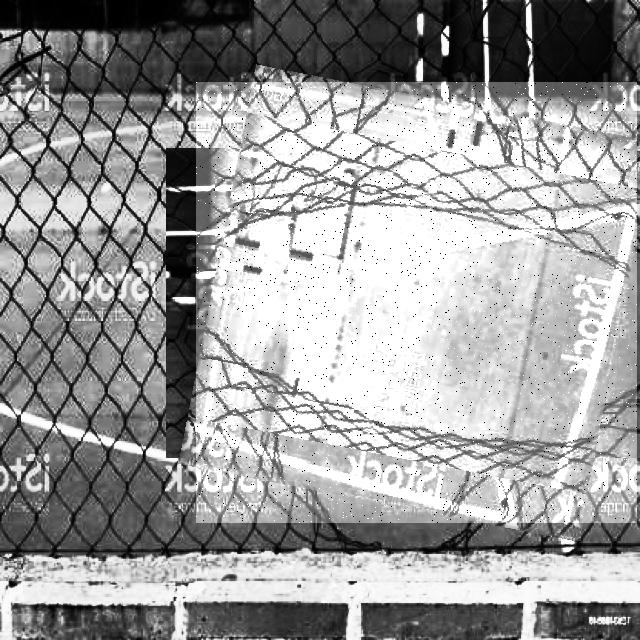anomaly-fence: (196, 82, 637, 523)
